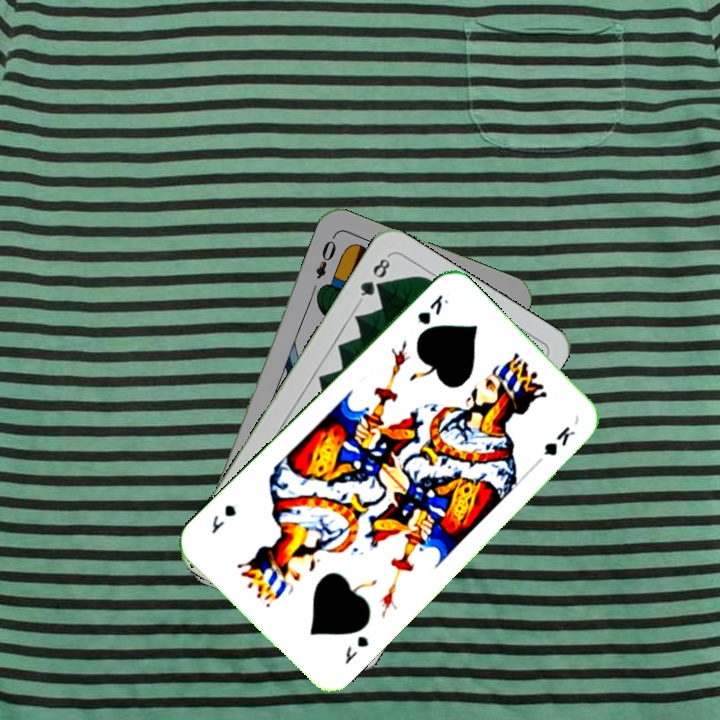EO: (311, 231, 339, 282)
G8: (355, 251, 393, 304)
GK: (413, 290, 451, 328), (340, 632, 372, 667)
